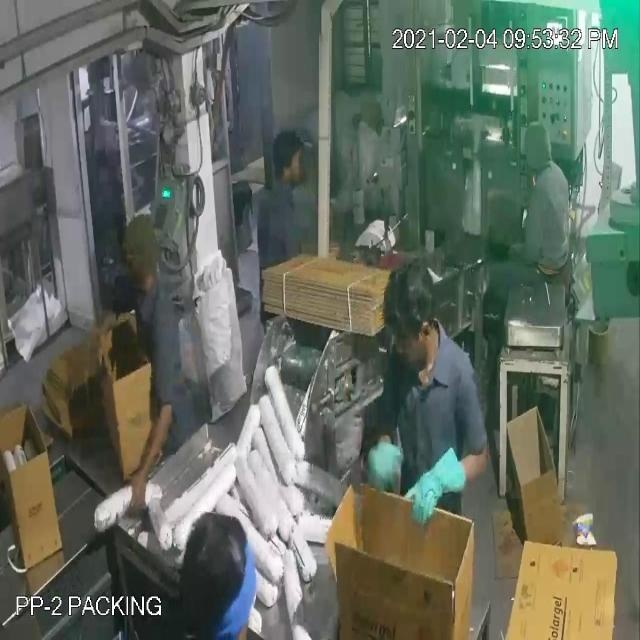gloves: (410, 438, 468, 542), (361, 422, 399, 502)
no-gloves: (121, 382, 185, 516)
